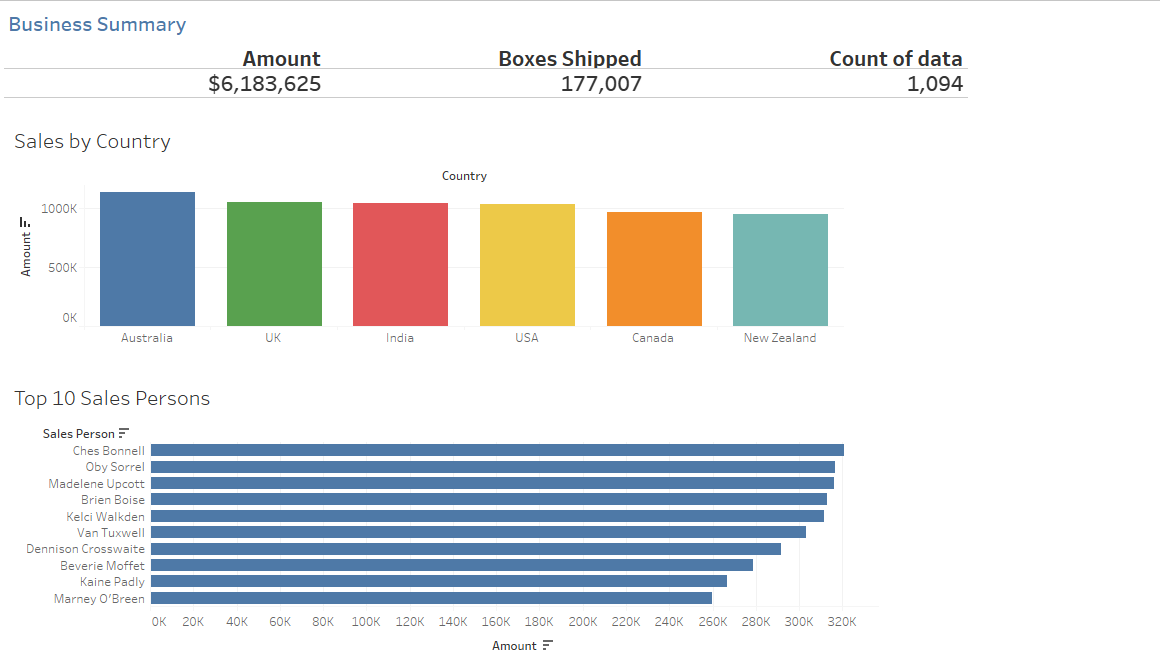

The dashboard page shown, as its layout file describes it:
{"tool":"tableau","page":{"name":"Dashboard 1","canvas":[1000,1000],"units":"permille","ordinal":0},"visuals":[{"type":"worksheet","title":"Sheet 3","mark":"Automatic","box":[5.8,11.7,871.1,976.6]},{"type":"legend","title":"Sheet 1","param":"[federated.1ytfbmb1i1e4p910mt0ca1nauivs].[none:Country:nk]","box":[876.9,11.7,117.4,213.5]},{"type":"worksheet","title":"Sheet 1","mark":"Automatic","rows":["Amount"],"cols":["Country"],"box":[13,188.6,600.4,356.7]},{"type":"worksheet","title":"Sheet 2","mark":"Automatic","rows":["Sales Person"],"cols":["Amount"],"box":[13,564.3,625.6,412.3]}]}

Visuals, with their boxes on the dashboard's canvas, which has no fixed pixel size, in thousandths of its width and height (x1, y1, x2, y2). These are canvas units, not pixel positions in the 1160x668 screenshot, which may show the page scaled, cropped or inside an application window:
"Sheet 3" worksheet: x1=6, y1=12, x2=877, y2=988
"Sheet 1" legend: x1=877, y1=12, x2=994, y2=225
"Sheet 1" worksheet: x1=13, y1=189, x2=613, y2=545
"Sheet 2" worksheet: x1=13, y1=564, x2=639, y2=977
